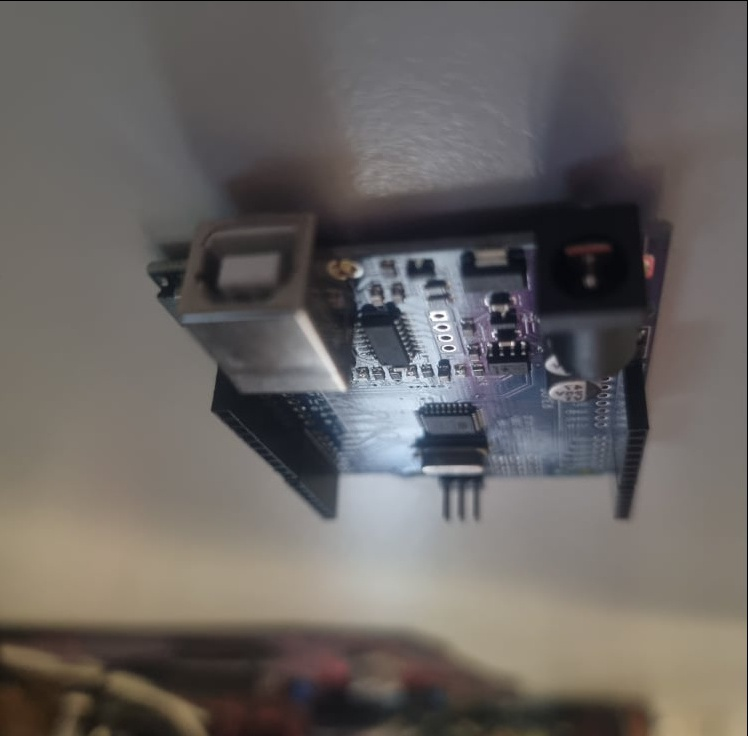UNO R3: (143, 194, 678, 520)
